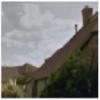chimneys: (80, 3, 94, 26)
